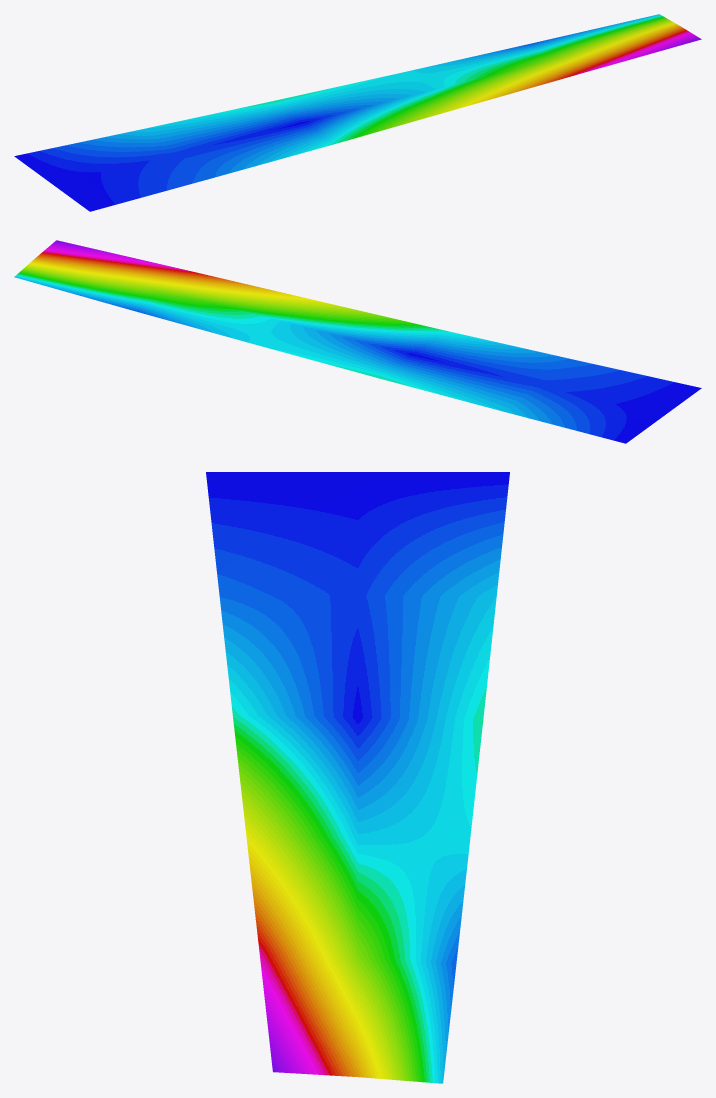
3 renders of one model, top to bottom at view 1: azimuth 30°, elevation 25°; view 2: azimuth 150°, elevation 25°; view 3: azimuth 270°, elevation 25°, orthographic. The views are drawn at different scales.
Parts seen in each view (by area): view 1: Elements; view 2: Elements; view 3: Elements.
Part boxes in pixels (left/top/right/bottom): Elements: left=14, top=14, right=701, bottom=211; Elements: left=14, top=240, right=701, bottom=443; Elements: left=206, top=472, right=509, bottom=1083.
Size of the model in its own units: 1 by 0.0126 by 0.2095.
Materials: 1 (1 with a texture image).
